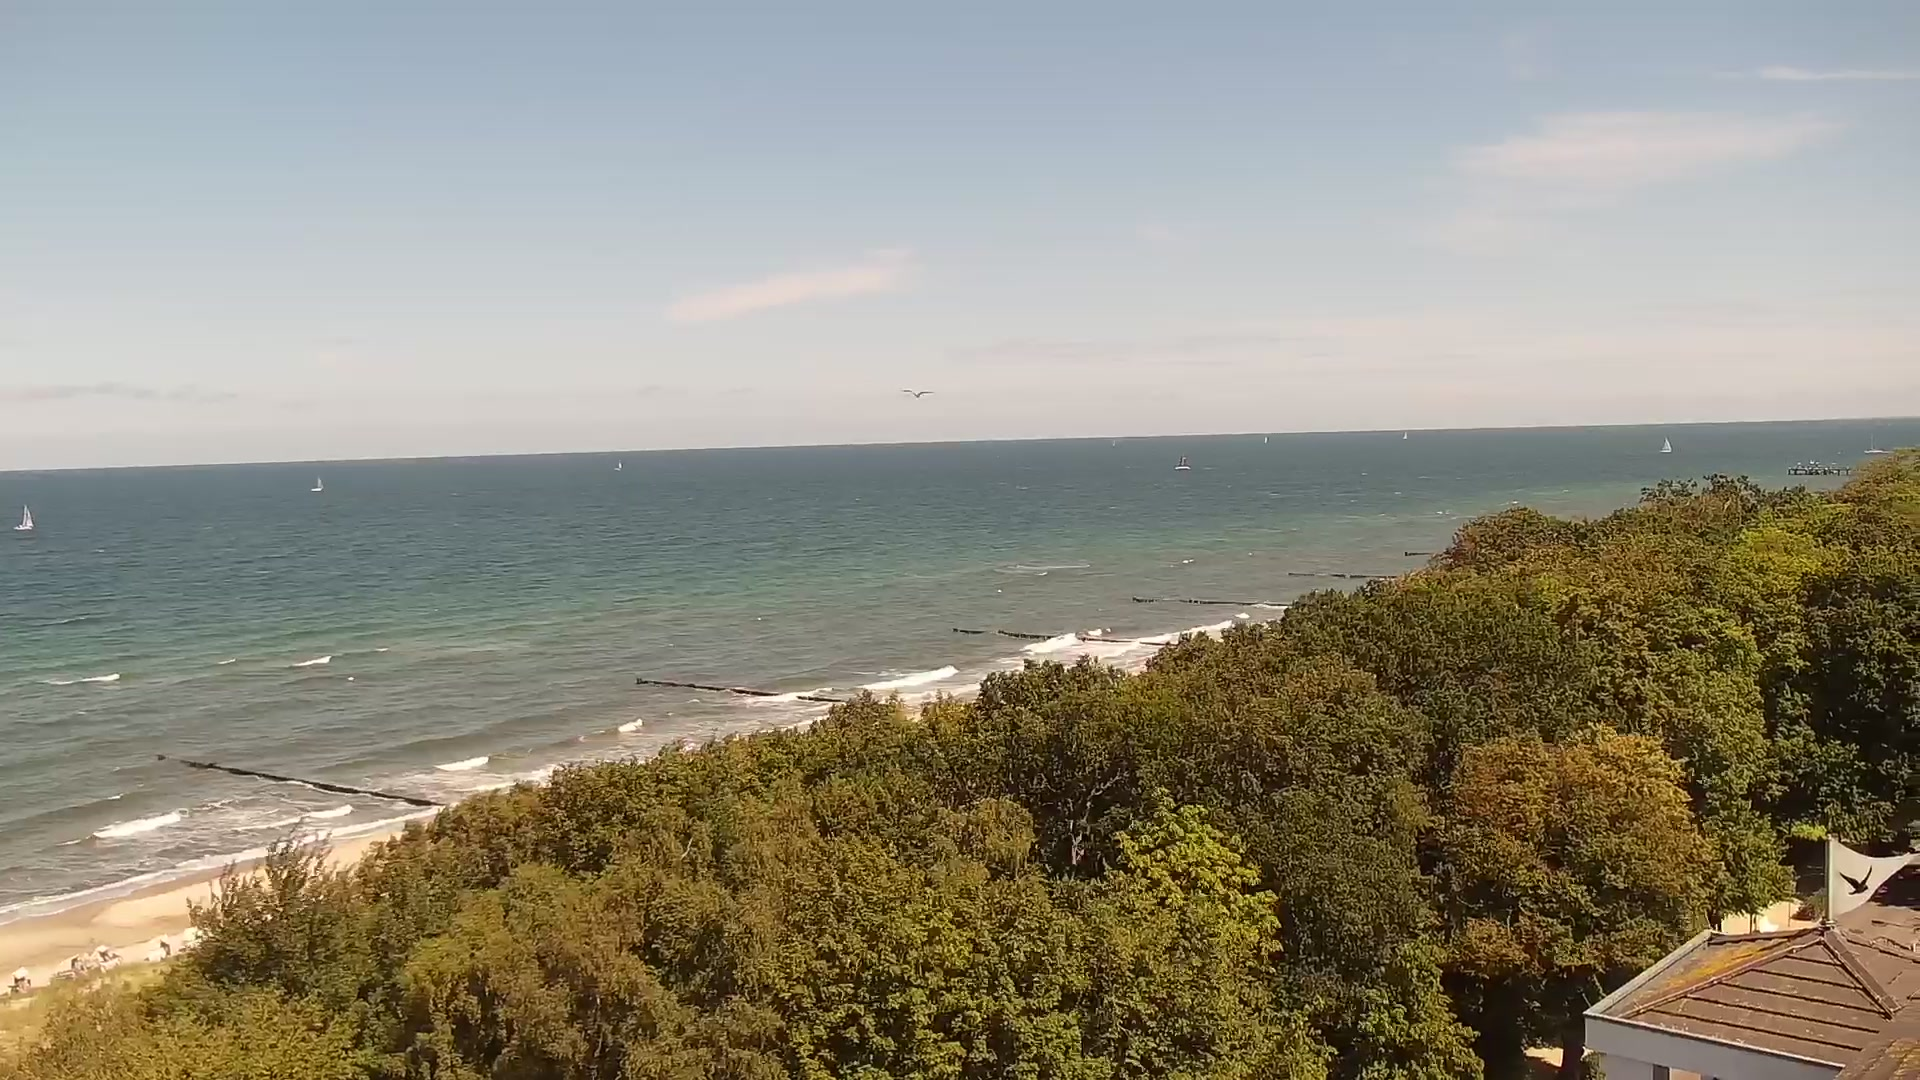sea: (15, 502, 34, 531), (1865, 433, 1884, 454), (309, 473, 324, 491), (1659, 435, 1673, 454), (1174, 455, 1189, 469), (613, 458, 622, 469), (1402, 430, 1408, 440), (1263, 434, 1269, 444)
